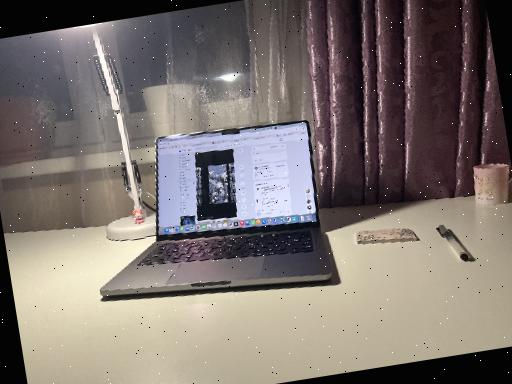vk: (146, 126, 320, 237)
